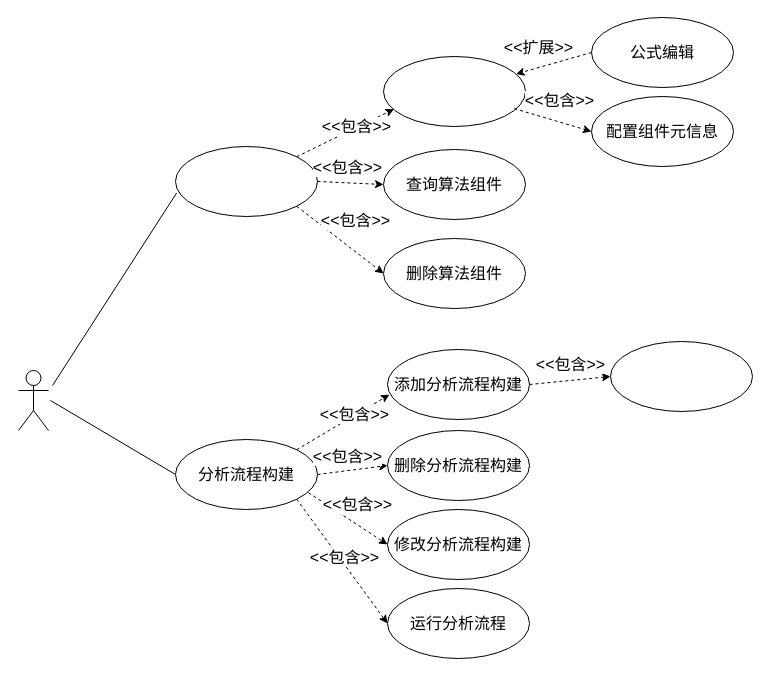
Image size: 770x676. Some labels were removed from this diagram. Each missing label, with the centre of its shape:
测试运行: [681,376]
添加/修改算法组件: [454,91]
用户: [33,400]
算法库管理: [246,181]
